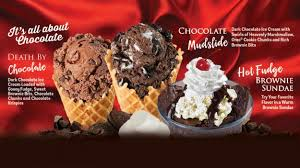ice-cream: (113, 24, 176, 94), (55, 36, 115, 101)
